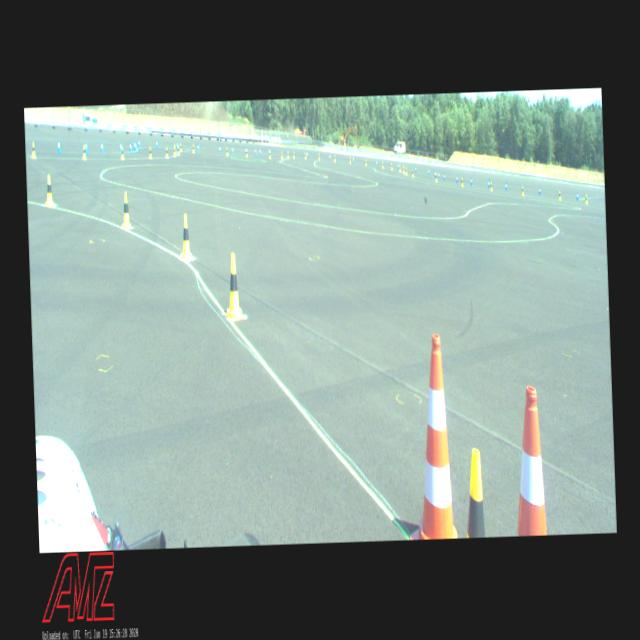blue_cone: (57, 138, 61, 152), (84, 139, 88, 152), (128, 140, 132, 150), (100, 141, 103, 152), (119, 141, 122, 151), (469, 176, 472, 185), (328, 152, 331, 160), (576, 190, 578, 200), (488, 178, 490, 188), (437, 170, 439, 180), (138, 138, 140, 148), (132, 139, 134, 149), (456, 174, 458, 183), (428, 167, 430, 176), (538, 186, 540, 195), (134, 141, 136, 150), (231, 146, 233, 154), (135, 142, 137, 150), (218, 144, 220, 152), (505, 182, 507, 190), (156, 140, 158, 148), (254, 147, 256, 155), (197, 142, 199, 150), (443, 172, 445, 180), (176, 140, 178, 148), (434, 170, 436, 178), (306, 150, 308, 158), (414, 165, 416, 172), (396, 162, 398, 169), (376, 159, 378, 166), (258, 148, 260, 154), (268, 148, 270, 154), (352, 157, 354, 162)
large_orange_cone: (404, 331, 458, 538), (514, 387, 546, 536)
yellow_cone: (463, 448, 485, 536), (224, 252, 242, 322), (178, 213, 192, 257), (120, 192, 132, 226), (44, 173, 54, 206), (31, 142, 36, 158), (82, 144, 86, 160), (148, 146, 152, 158), (120, 146, 124, 158), (558, 190, 562, 200), (584, 194, 588, 204), (165, 146, 168, 158), (460, 176, 463, 187), (173, 144, 176, 155), (173, 143, 176, 154), (434, 172, 437, 182), (398, 164, 401, 172), (245, 146, 247, 157), (521, 186, 523, 196), (226, 146, 228, 156), (180, 143, 182, 152), (490, 181, 492, 190), (280, 150, 282, 159), (402, 164, 404, 173), (286, 149, 288, 158), (177, 145, 179, 154), (292, 150, 294, 158), (192, 144, 194, 152), (390, 162, 392, 170), (318, 152, 320, 160), (364, 158, 366, 166), (412, 168, 414, 176), (268, 150, 270, 158), (381, 160, 383, 168), (334, 154, 336, 162), (349, 156, 351, 163), (406, 167, 408, 174), (304, 152, 306, 158)
